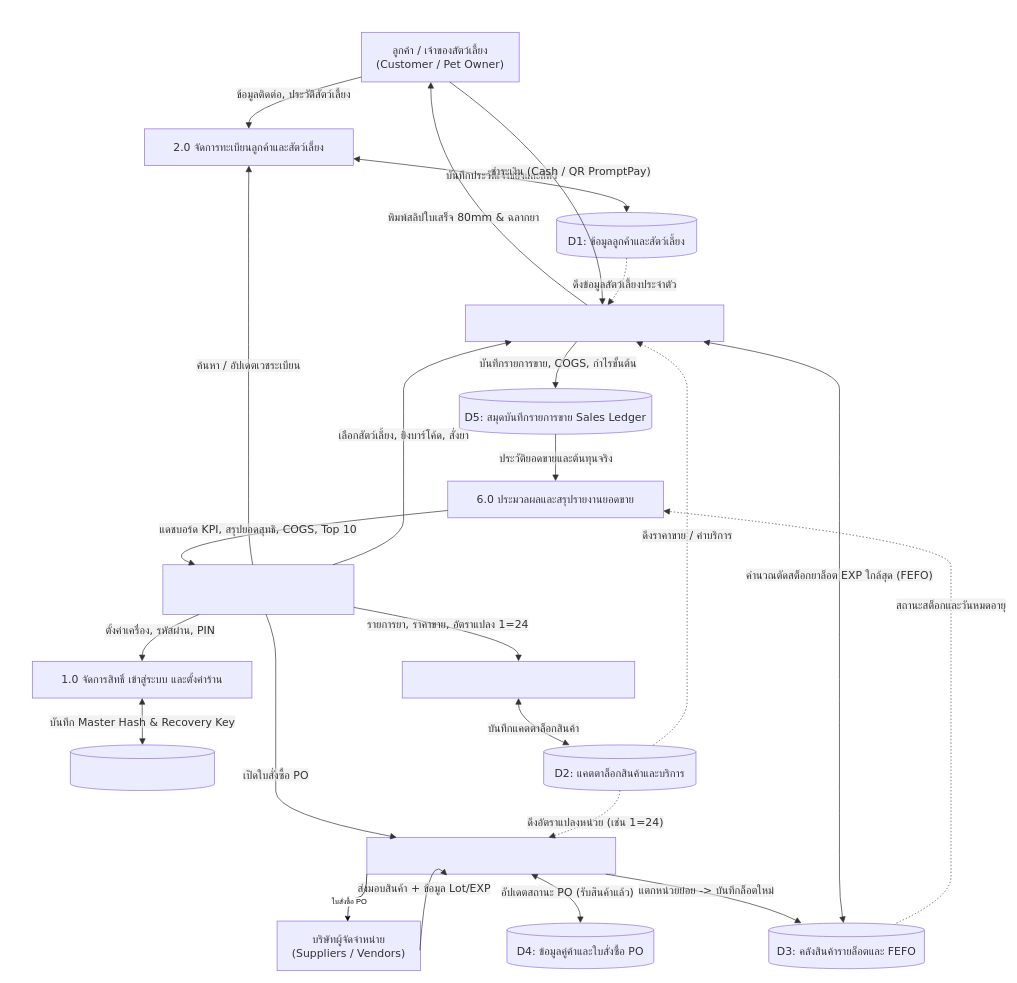
Image size: 1017x983. Some labels were removed from this diagram. The centre of each missing label's shape, as x and y in pixels:
"3.0 จัดการข้อมูลสินค้าและอัตราแปลงหน่วย" belongs at point 518,679.
"4.0 จัดซื้อสินค้าและตรวจรับแปลงหน่วยเข้าคลัง" belongs at point 491,855.
"5.0 คิดเงินหน้าร้าน ตัดสต็อก FEFO และพิมพ์สลิป" belongs at point 594,323.
"D6: ข้อมูลระบบและสิทธิ์ Staff" belongs at point 142,767.
"สัตวแพทย์ / บุคลากรประจำคลินิก (Veterinarian & Staff)" belongs at point 258,589.
